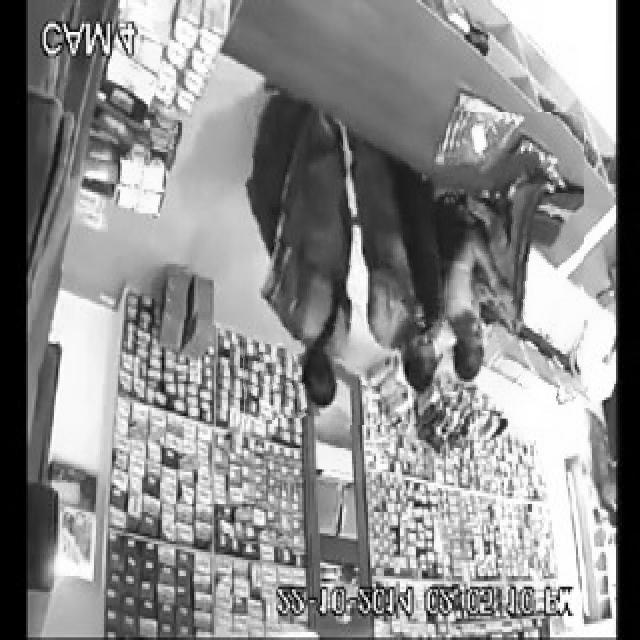normal: (444, 112, 584, 413), (236, 95, 365, 420), (342, 106, 445, 424)
